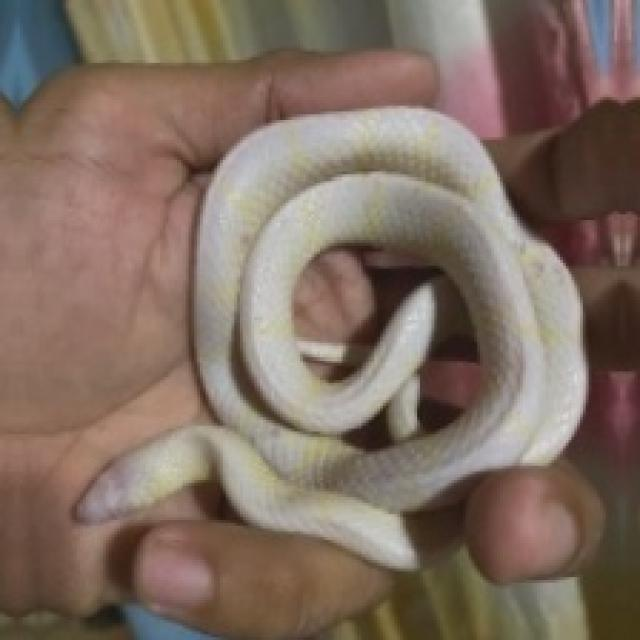gunthers philippine shrub snake: (77, 109, 583, 566), (291, 243, 483, 434)
